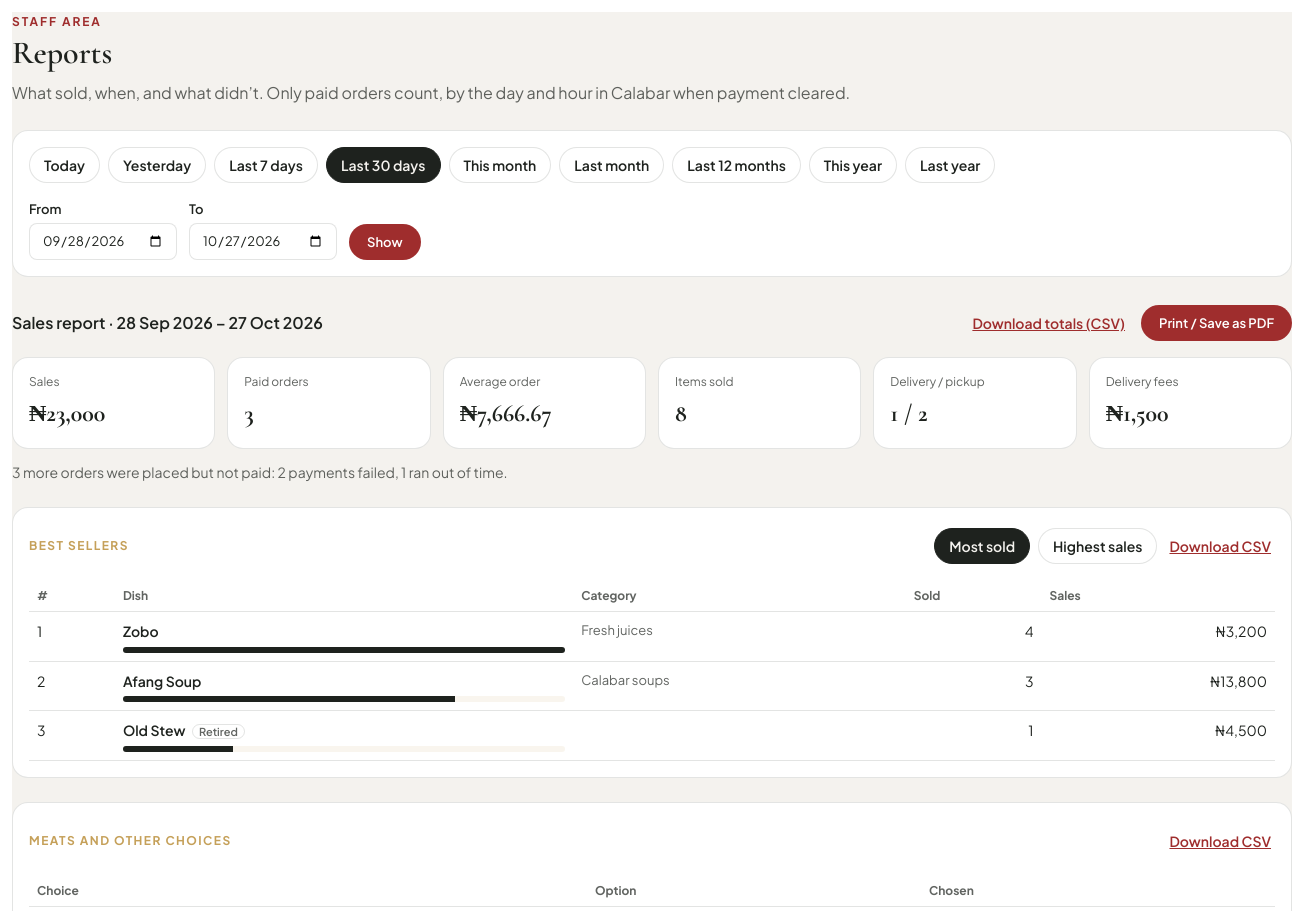
Test: AdminReportsView › explains a chosen period the report cannot cover, without asking the server
The image size is (1304, 911).
Type "2026-10-15" into the date field with test id "from" at (103, 242), box [29,223,177,260]
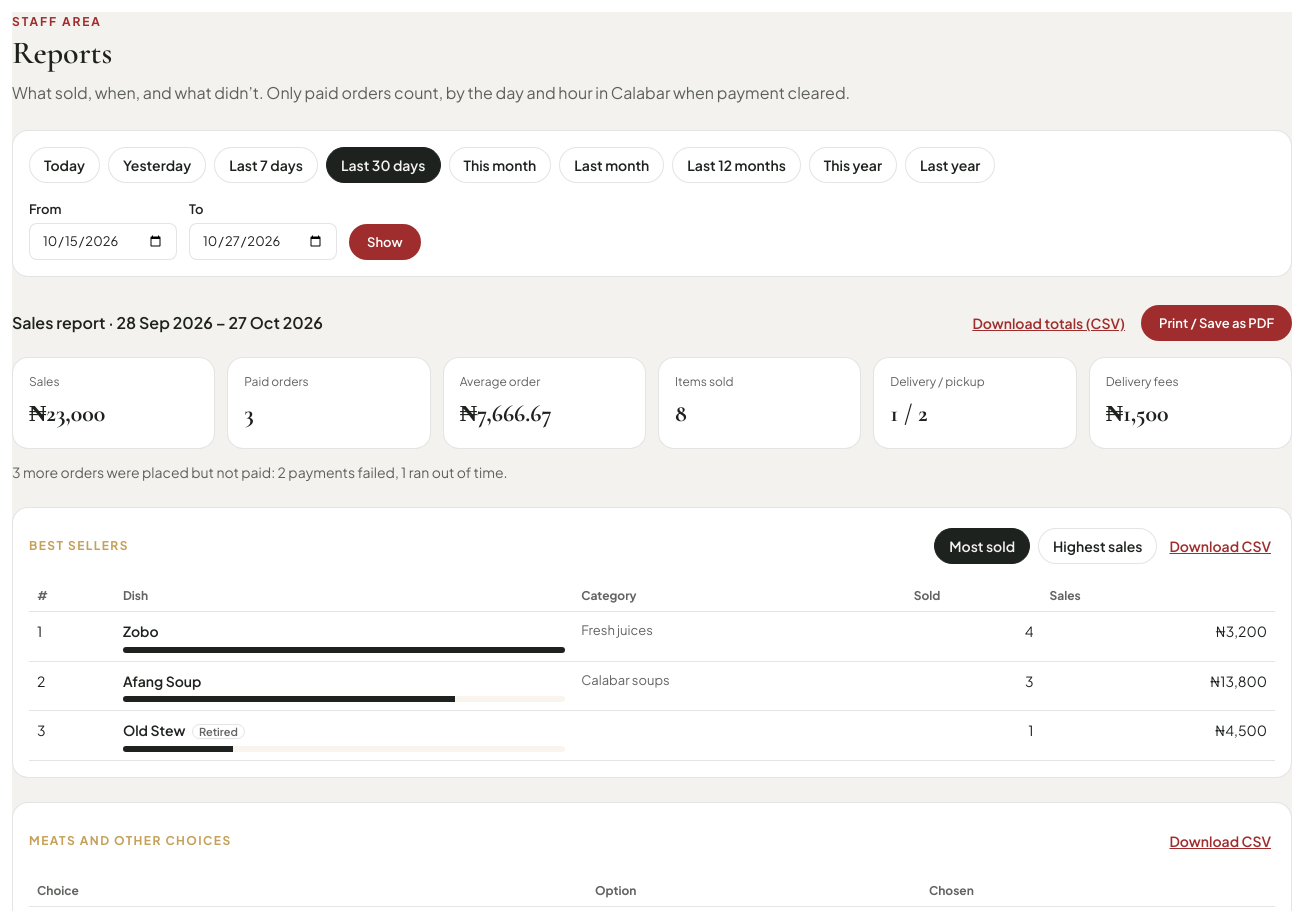
Type "2026-10-01" into the date field with test id "to" at (263, 242), box [189,223,337,260]
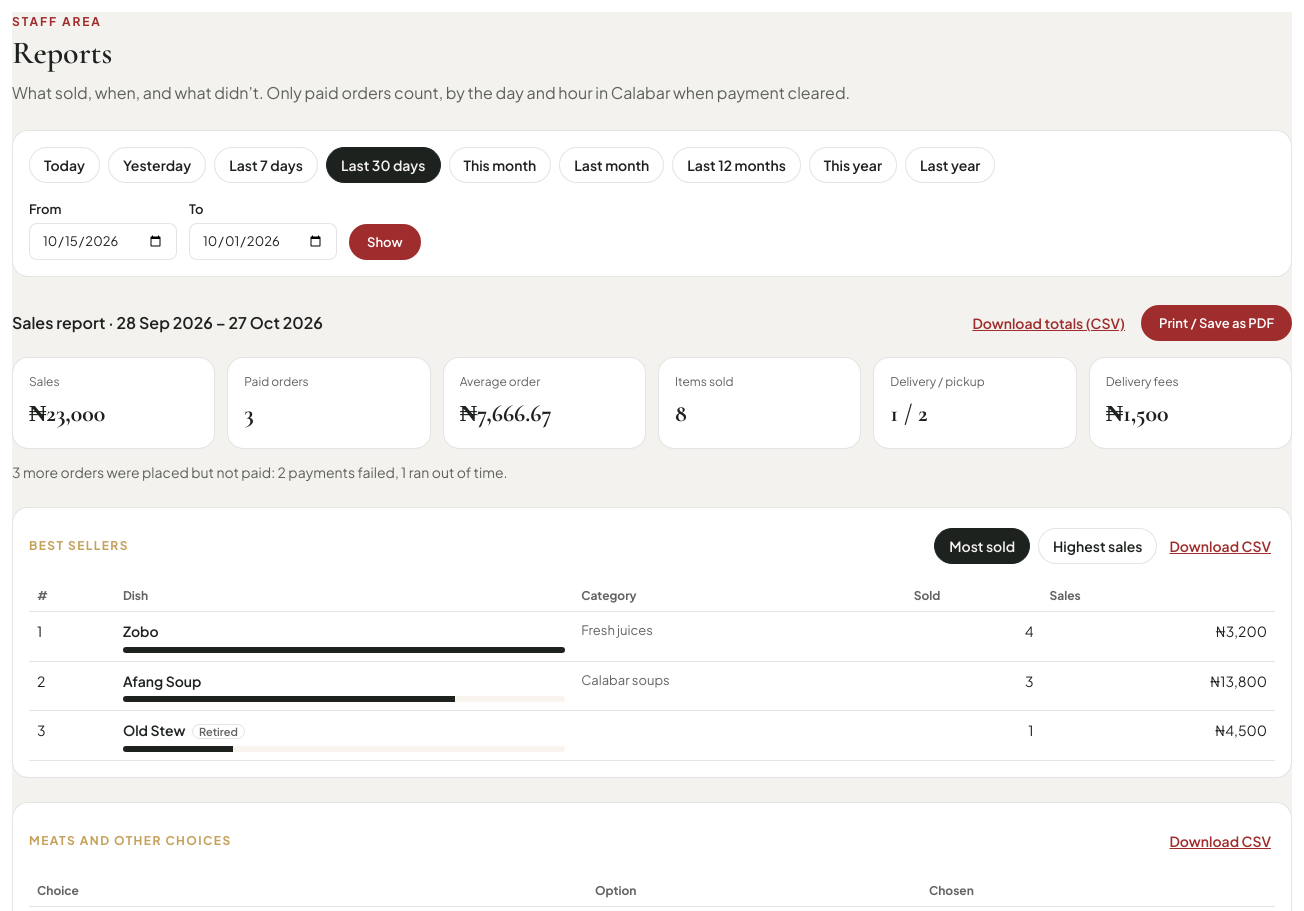
Submit the form with test id "custom", box [29,201,420,260]
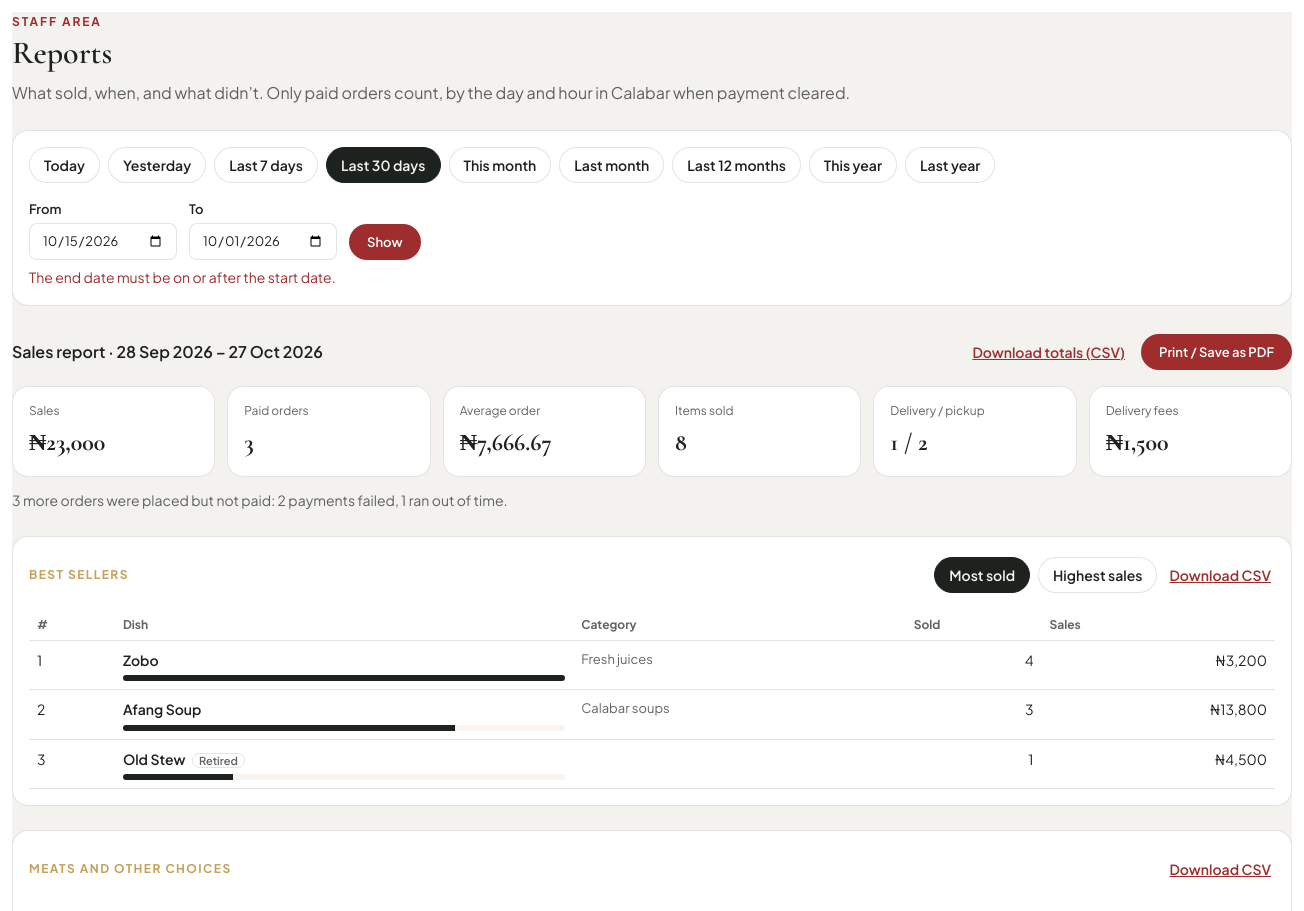
Expected: the element with test id "period-error" reads "The end date must be on or after the start date.", [29,268,336,286]
